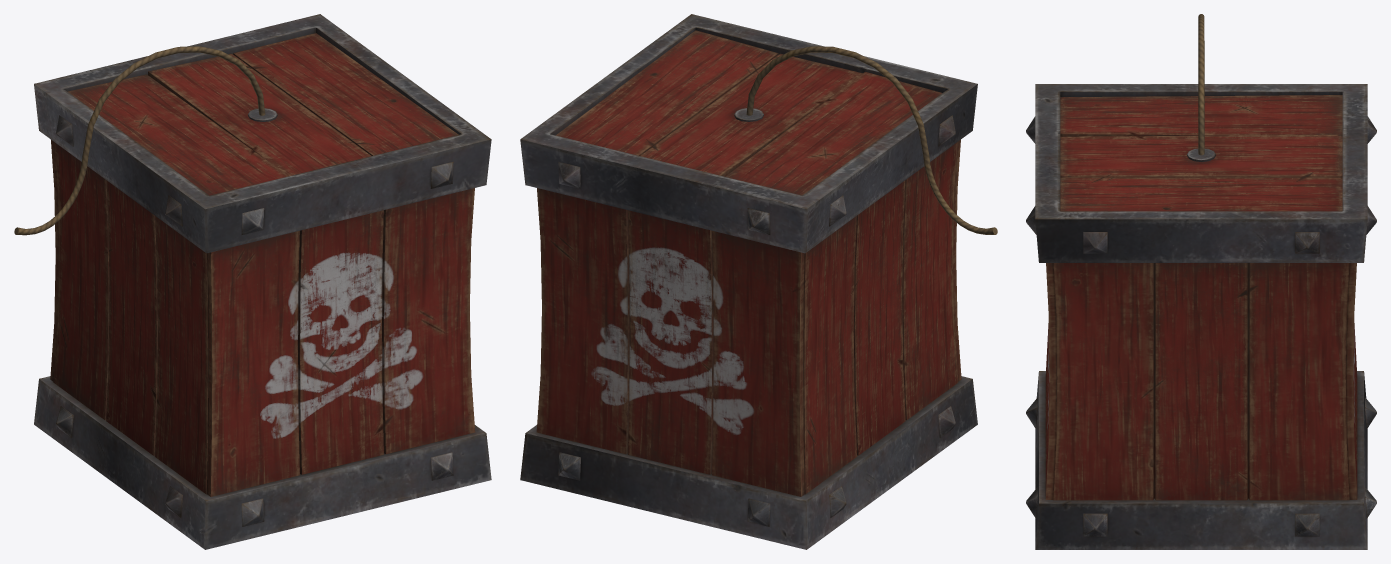
The model's file is Gunpowder Box_1.fbx.
3 renders of one model, left to right at view 1: azimuth 30°, elevation 25°; view 2: azimuth 150°, elevation 25°; view 3: azimuth 270°, elevation 25°, orthographic. The views are drawn at different scales.
Visible parts, largest first — view 1: Gunpowder Box_1; view 2: Gunpowder Box_1; view 3: Gunpowder Box_1.
Boxes of the visible parts, bbox=[...] form: Gunpowder Box_1: bbox=[14, 14, 491, 549]; Gunpowder Box_1: bbox=[520, 14, 997, 549]; Gunpowder Box_1: bbox=[1026, 14, 1376, 549].
Bounding box in the file's own units: 146 × 149 × 115.
